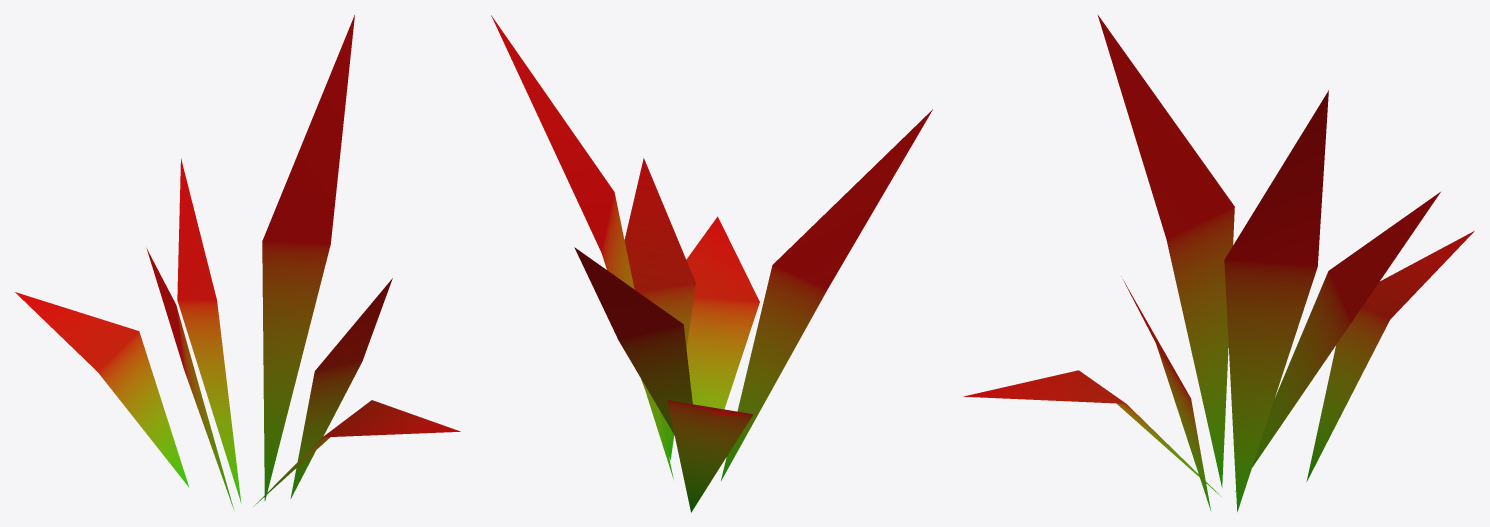
File: Silvery Glade Fern_LOD6_Var2_xf5lebcqx.fbx
3 views of the same model, side by side, from view 1: azimuth 30°, elevation 25°; view 2: azimuth 150°, elevation 25°; view 3: azimuth 270°, elevation 25° (orthographic). The views are drawn at different scales.
Parts seen in each view (by area): view 1: _l99i_Var2_LOD6; view 2: _l99i_Var2_LOD6; view 3: _l99i_Var2_LOD6.
Boxes of the visible parts, <box> form: _l99i_Var2_LOD6: <box>15,15,460,510</box>; _l99i_Var2_LOD6: <box>491,15,932,512</box>; _l99i_Var2_LOD6: <box>963,14,1474,511</box>.
Size of the model in its own units: 12.67 by 16.8 by 15.74.
